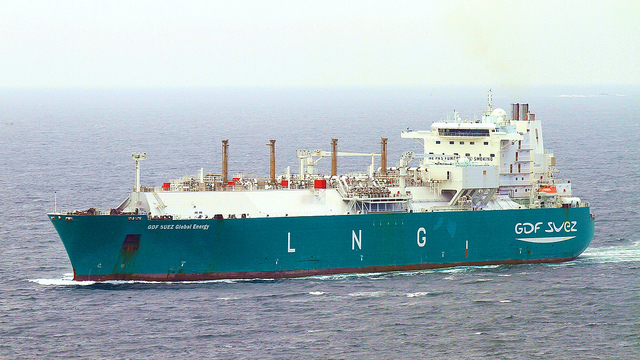LNG_ship: (48, 95, 598, 274)
